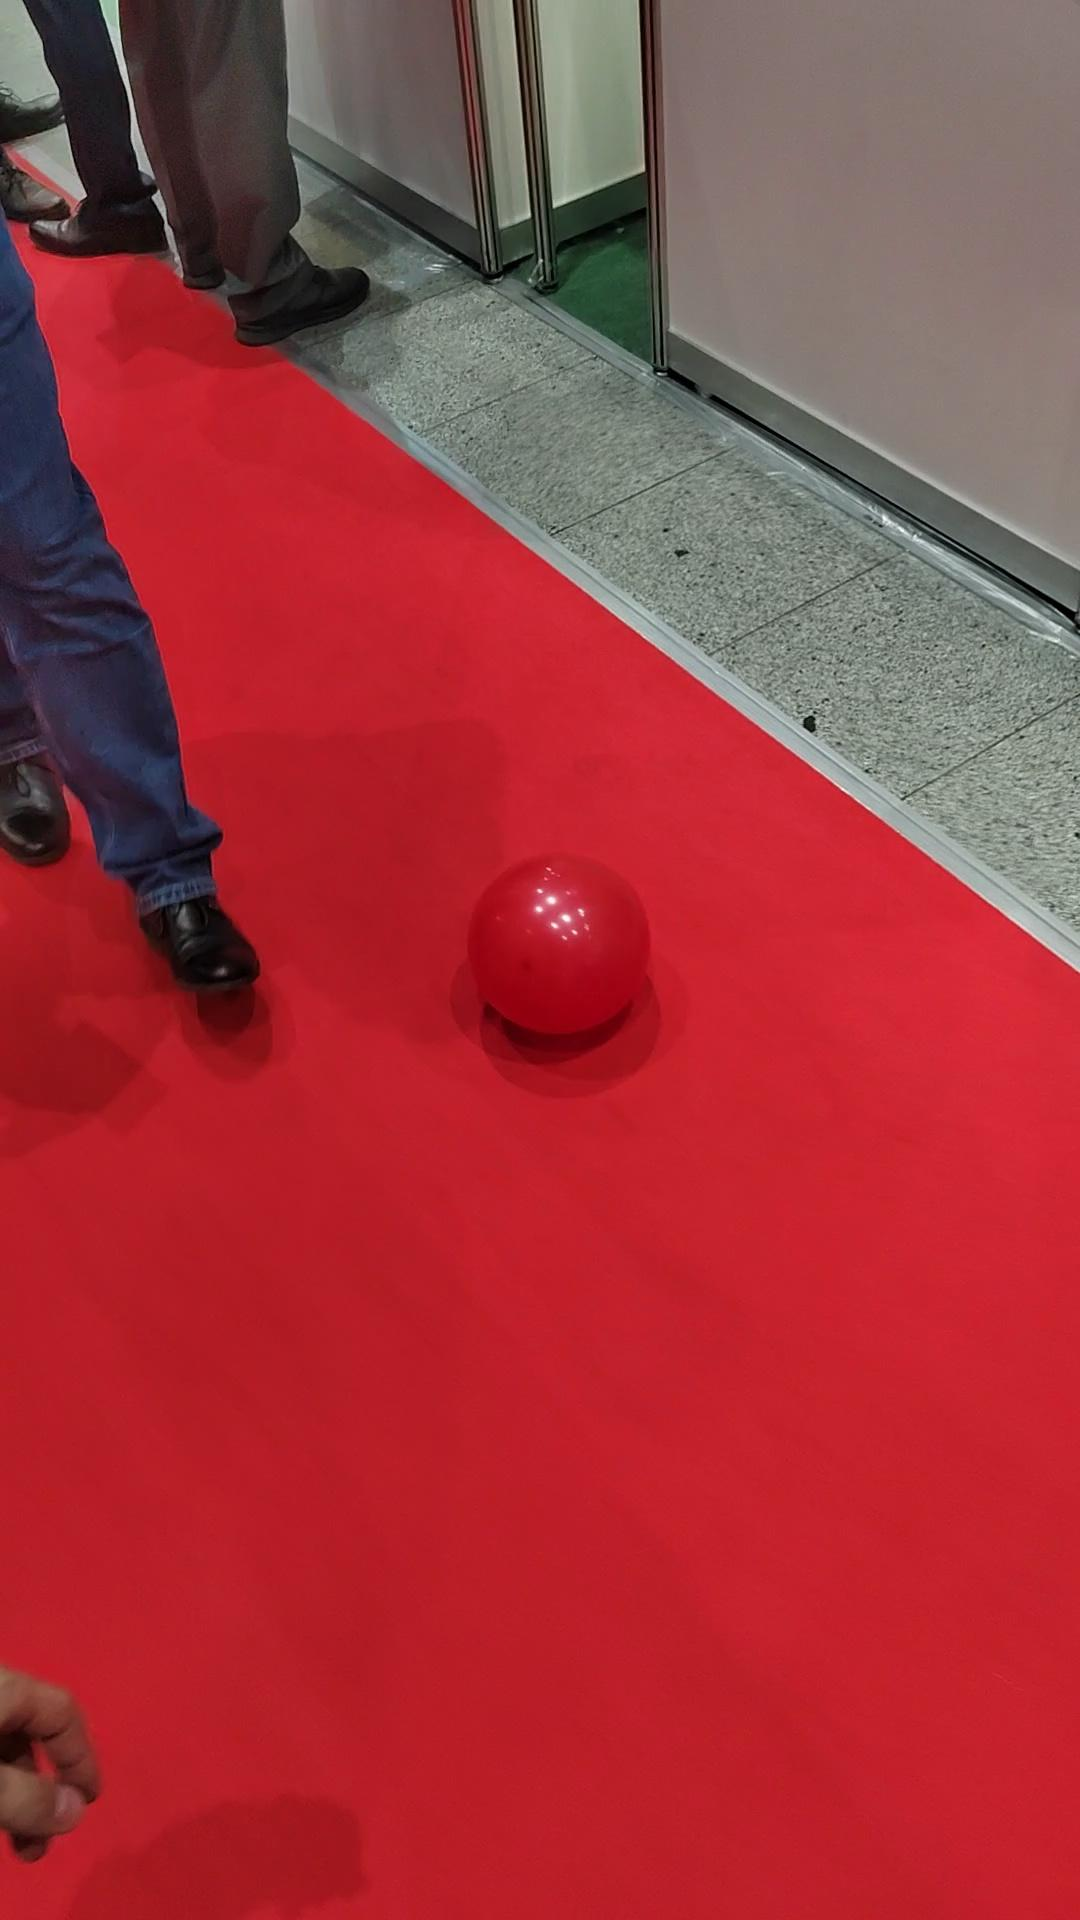red: (467, 856, 647, 1036)
